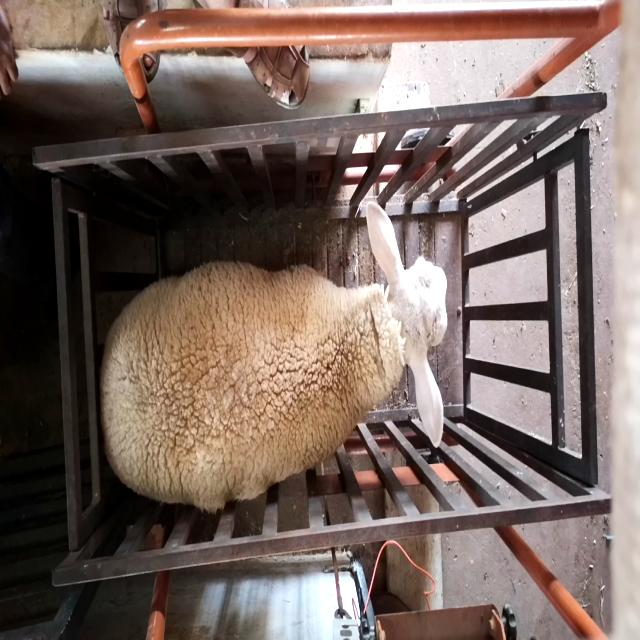sheep: (100, 200, 448, 513)
